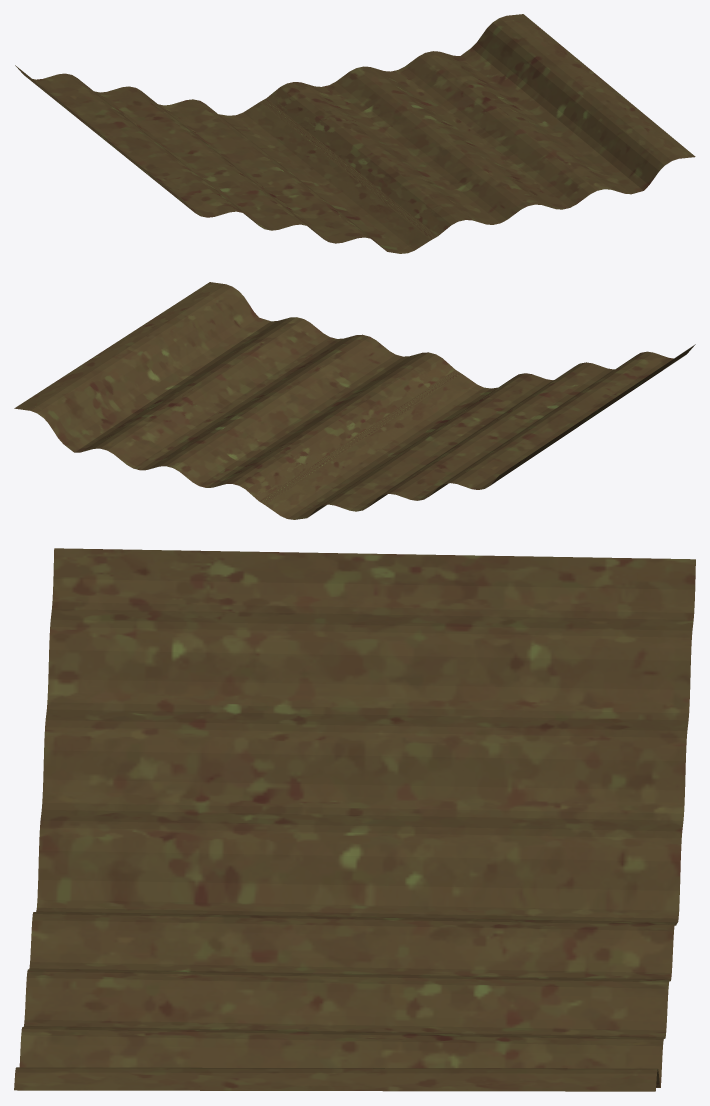
The model's file is metal scrap6.fbx.
3 views of the same model, one above another, from view 1: azimuth 30°, elevation 25°; view 2: azimuth 150°, elevation 25°; view 3: azimuth 270°, elevation 25° (orthographic). The views are drawn at different scales.
Visible parts, largest first — view 1: Plane.017; view 2: Plane.017; view 3: Plane.017.
Part boxes in pixels (x1,y1,x2,y2): Plane.017: (15, 14, 695, 253); Plane.017: (14, 282, 695, 519); Plane.017: (14, 548, 695, 1091).
Bounding box in the file's own units: 321 × 60.32 × 213.
